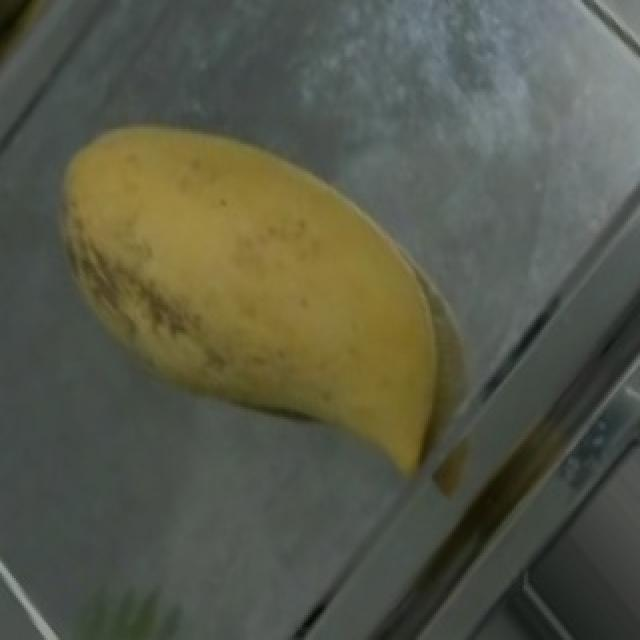fruit: (30, 35, 504, 526)
